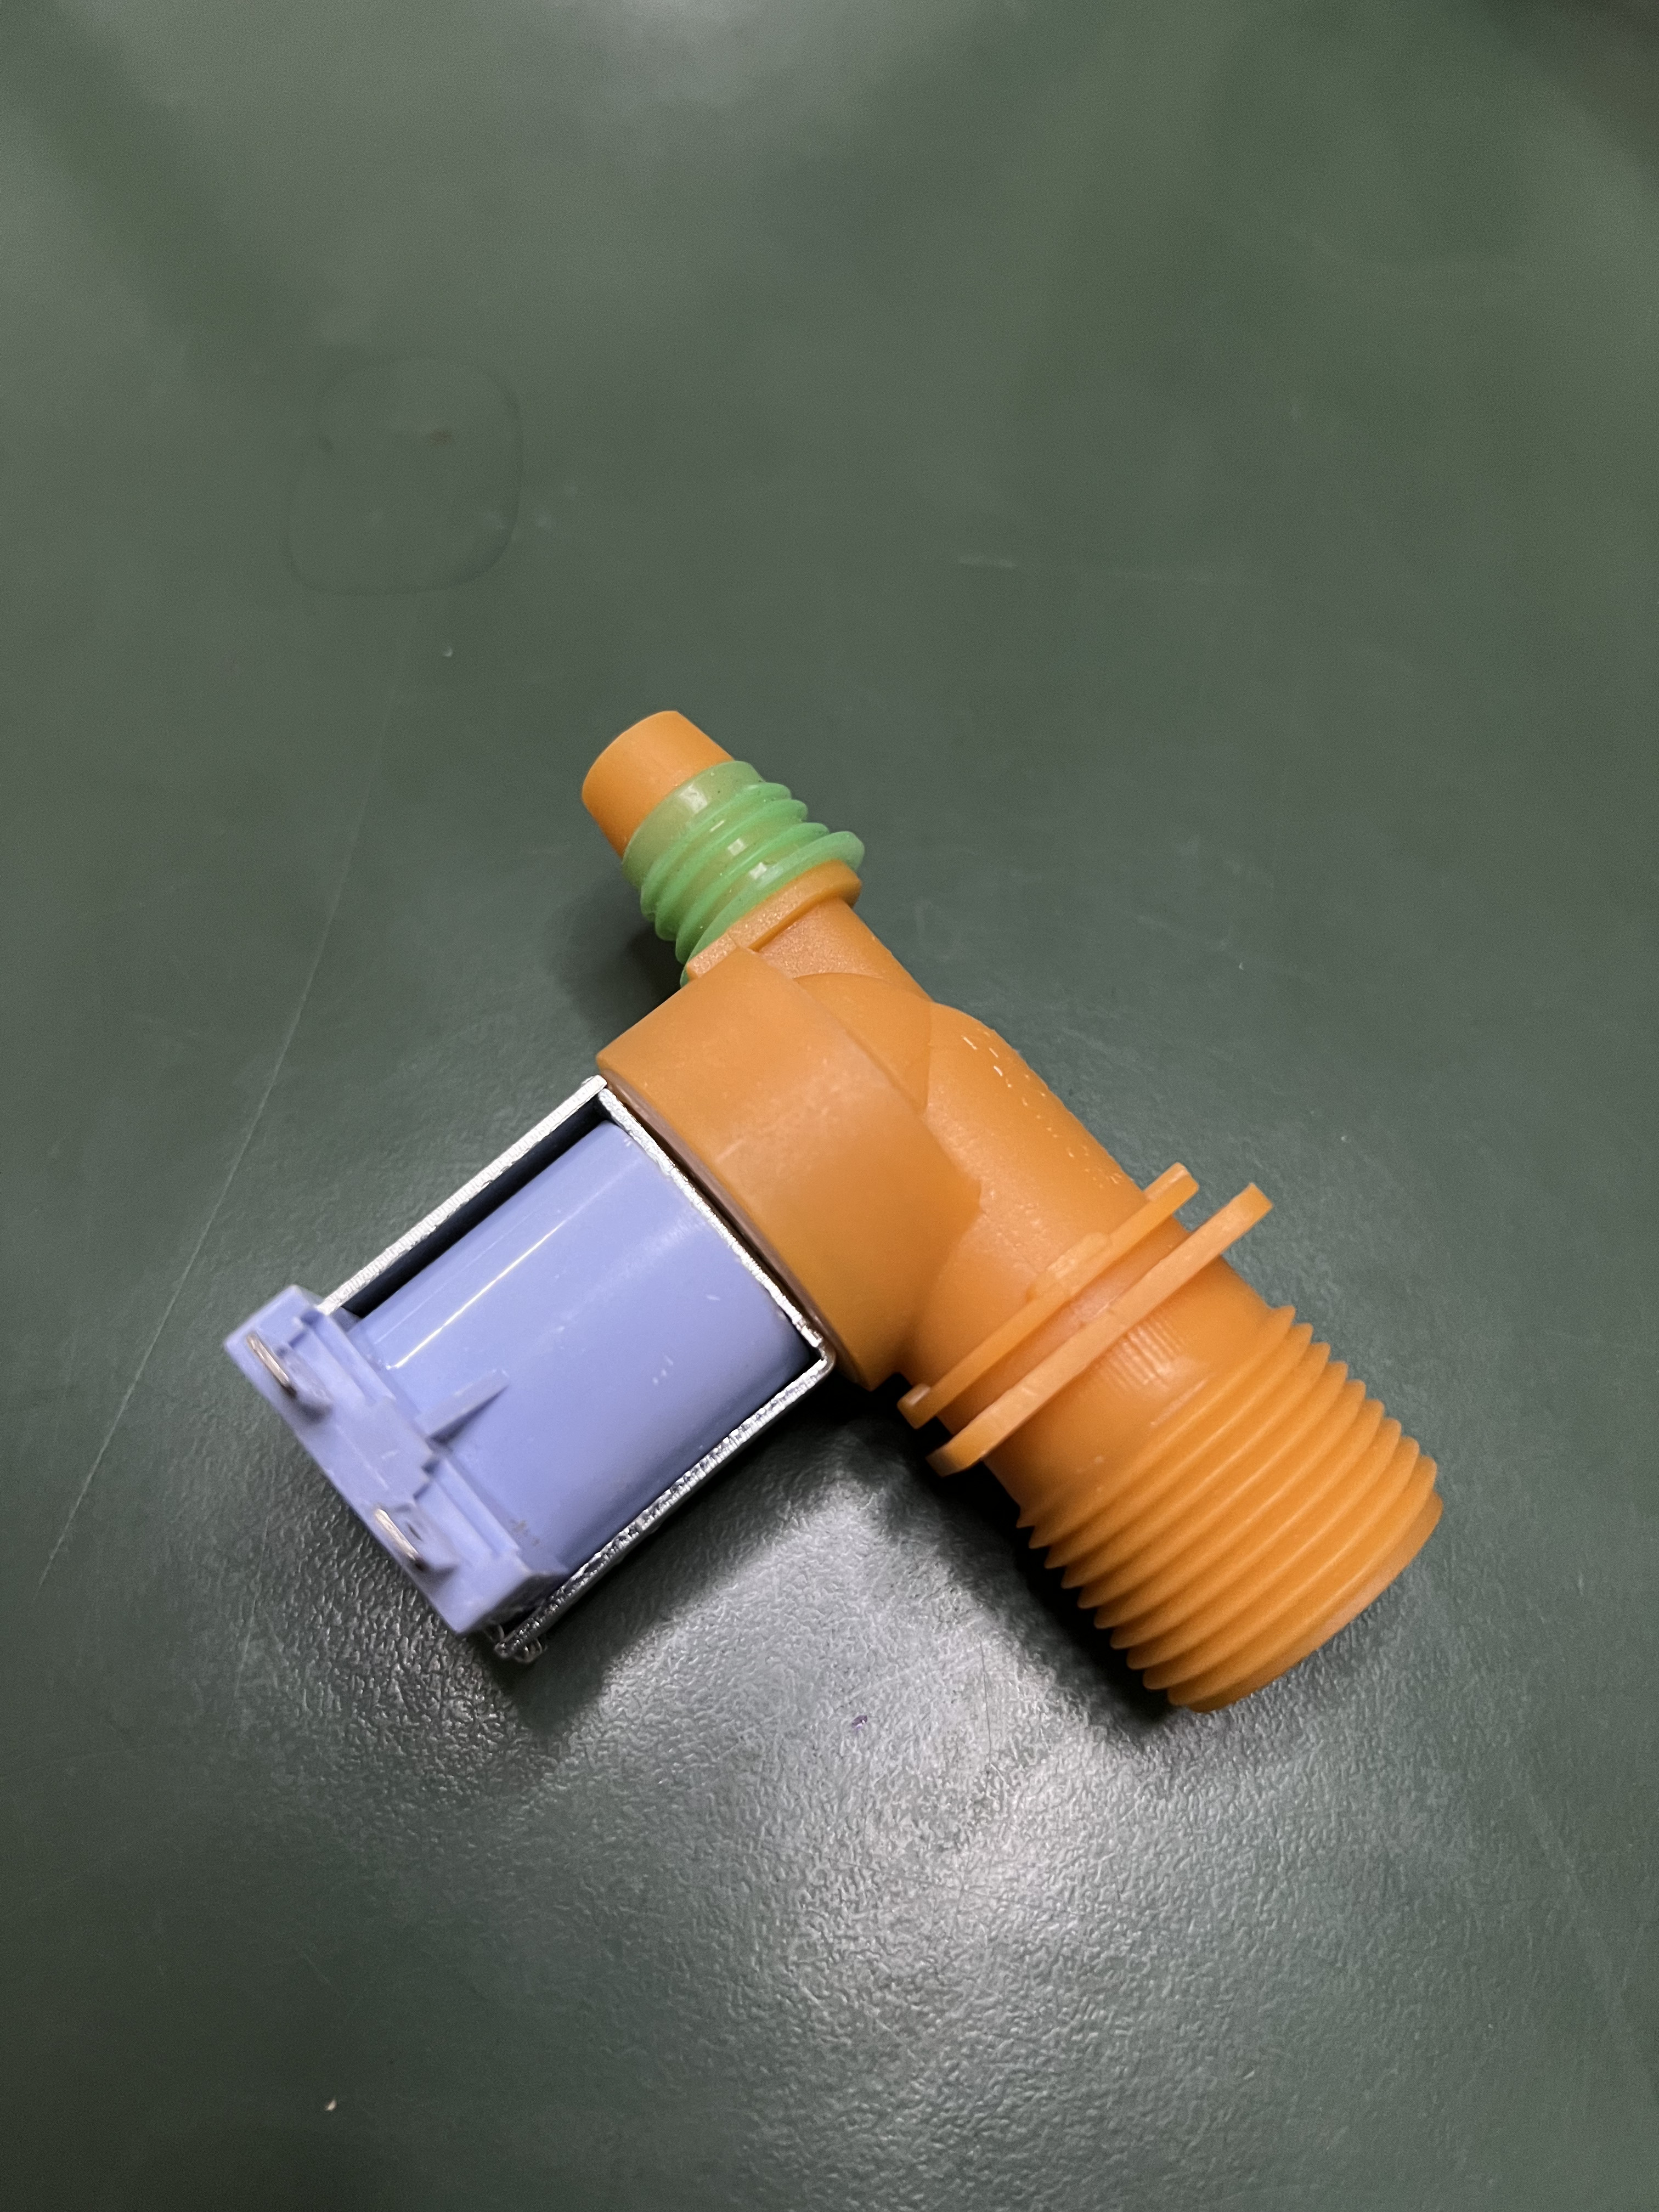ss_inlet_valves: (261, 752, 1511, 1876)
